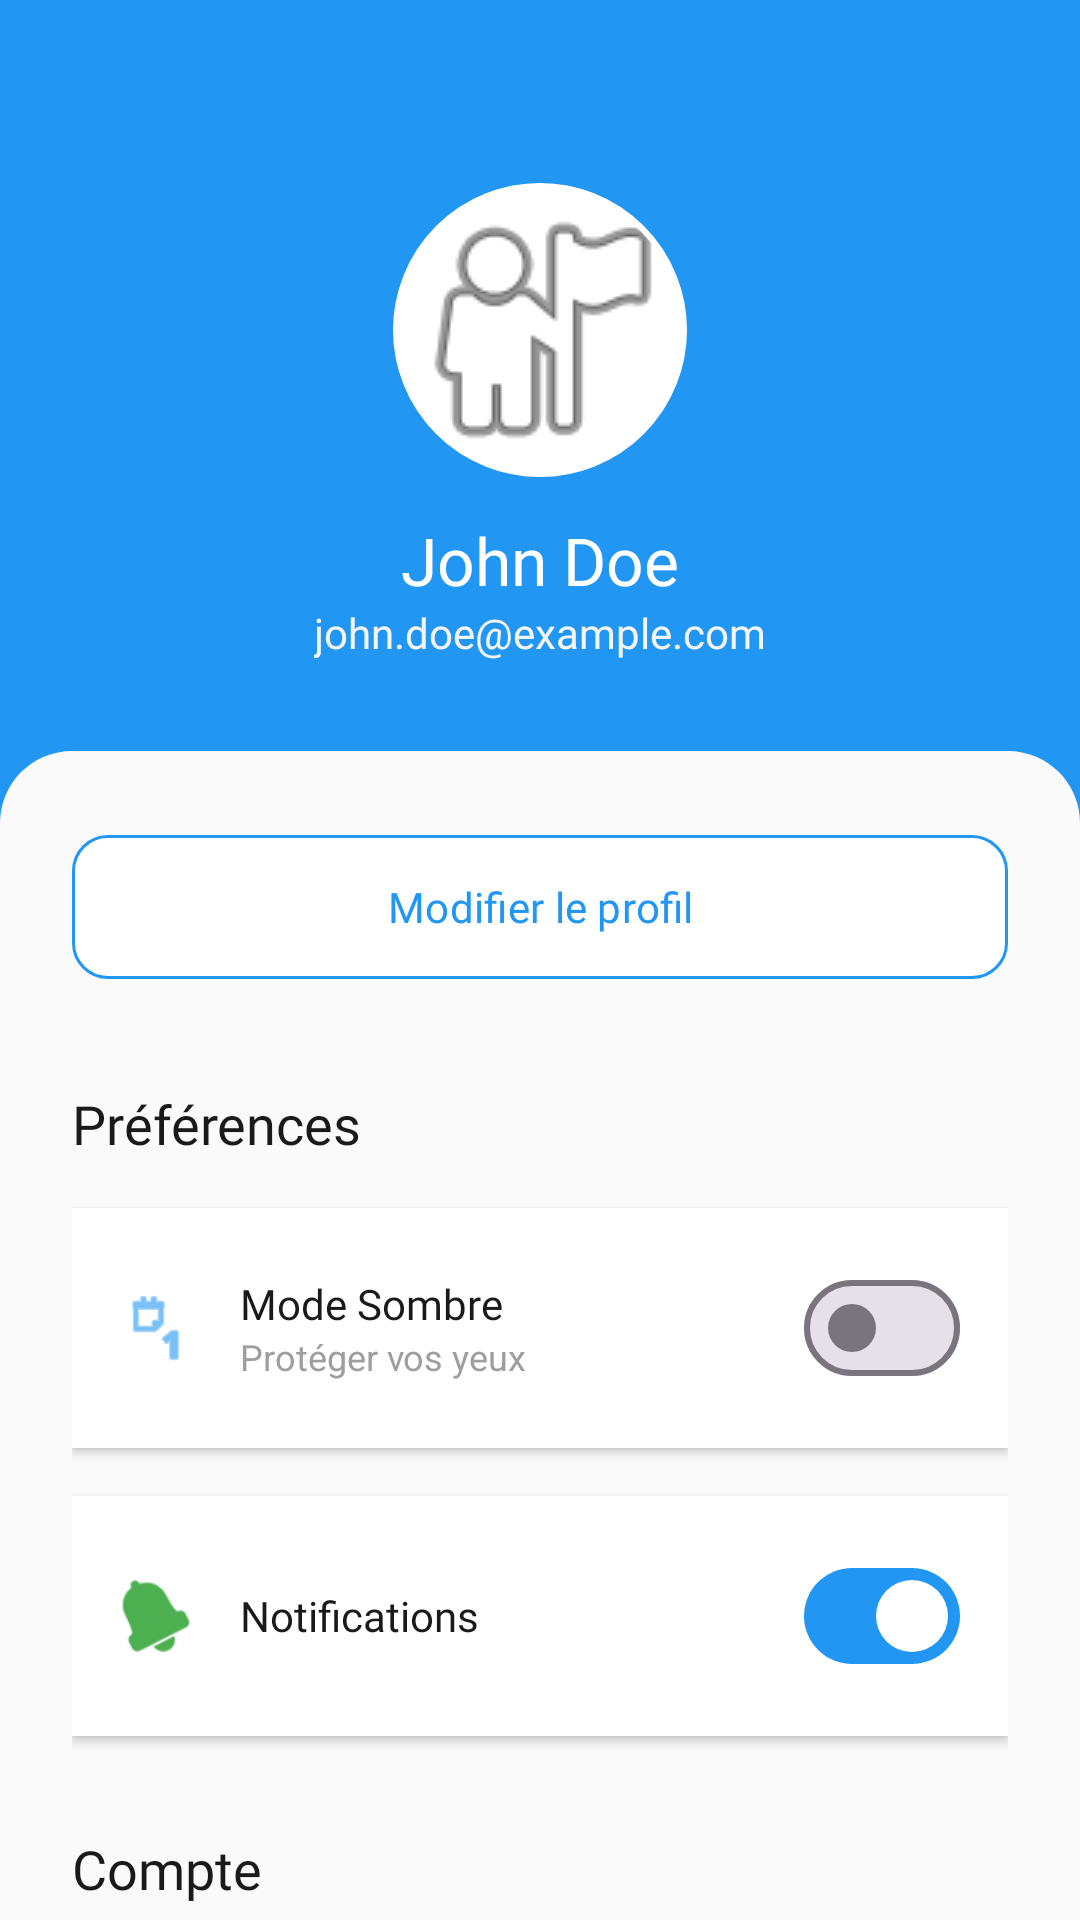

Icons on this 1080px x 1920px Android screen, each with the point to tap as point (x, y):
day: point (155, 1328)
popup reminder: point (156, 1616)
